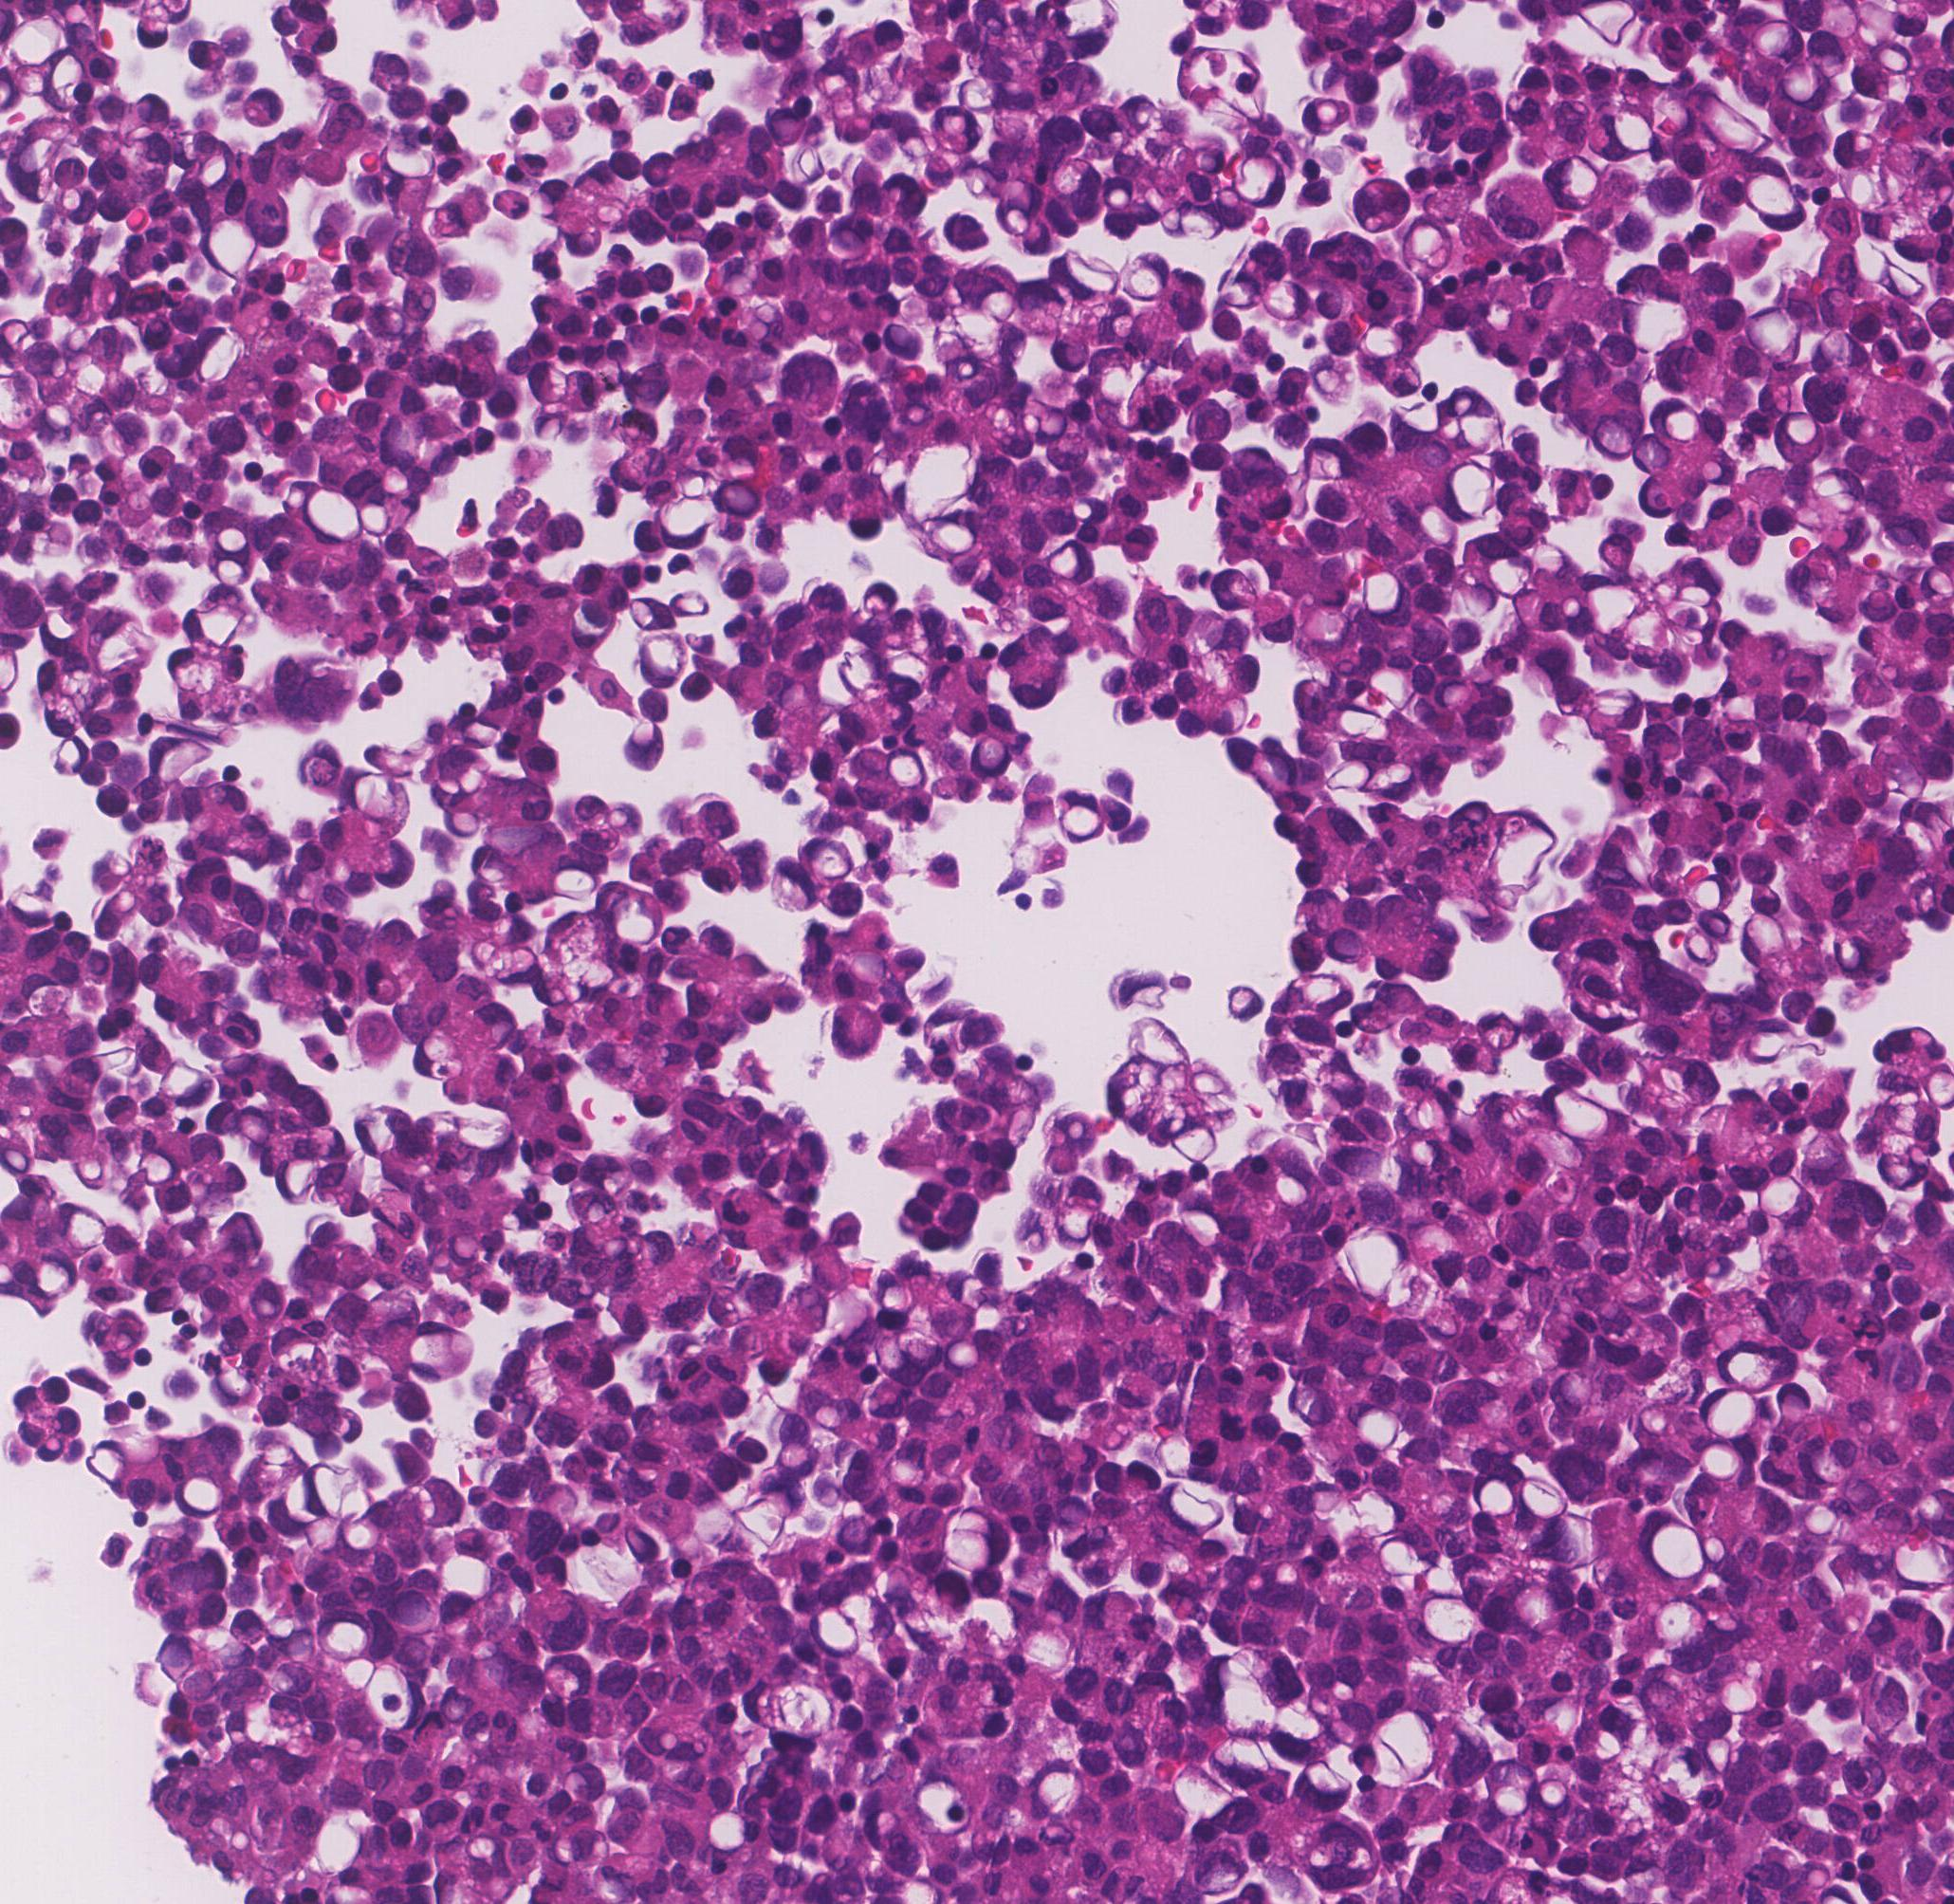ring_cell_cancer: (1380, 1703, 1439, 1785), (1642, 1508, 1703, 1585), (1549, 1086, 1616, 1147), (1743, 173, 1811, 232), (1350, 1227, 1408, 1297), (1717, 1339, 1799, 1387), (413, 1319, 475, 1380), (1230, 147, 1289, 208), (204, 218, 265, 276), (1757, 1173, 1818, 1230), (307, 1813, 363, 1876), (525, 1600, 591, 1653), (1164, 1482, 1225, 1538), (1050, 248, 1120, 297), (1698, 1387, 1760, 1442), (1752, 302, 1804, 366), (656, 497, 715, 553), (1204, 1651, 1261, 1707), (1752, 16, 1811, 70), (808, 1609, 867, 1663), (1296, 1761, 1356, 1815), (918, 1775, 968, 1838), (1441, 462, 1497, 518), (1029, 1764, 1083, 1820), (830, 1007, 885, 1063), (441, 1553, 499, 1606), (1539, 159, 1600, 208), (1350, 1400, 1406, 1452), (195, 326, 246, 384), (1178, 1766, 1235, 1817), (1650, 400, 1711, 447), (347, 770, 400, 824), (1654, 1599, 1708, 1651), (1401, 220, 1453, 274), (176, 1468, 232, 1518), (161, 1058, 216, 1108), (1214, 1736, 1270, 1787), (1424, 1597, 1479, 1647), (1781, 63, 1837, 113), (302, 490, 359, 539), (12, 138, 54, 204), (148, 736, 211, 780), (10, 14, 66, 63), (1352, 1489, 1410, 1536), (926, 513, 984, 560), (1377, 1538, 1441, 1579), (372, 838, 417, 897), (625, 716, 668, 777), (1359, 569, 1408, 623), (1614, 110, 1668, 159), (35, 1250, 82, 1304), (693, 1497, 740, 1551), (1279, 1702, 1326, 1756), (1176, 1204, 1232, 1250), (1059, 789, 1104, 845), (56, 1201, 106, 1250), (543, 1651, 593, 1700), (637, 637, 686, 688), (707, 1803, 754, 1855), (1045, 532, 1092, 585), (827, 1290, 872, 1344), (775, 860, 818, 916), (45, 52, 87, 110), (946, 1532, 1008, 1571), (319, 1613, 368, 1661), (975, 1595, 1024, 1644), (377, 138, 436, 178), (801, 836, 855, 880), (1296, 92, 1350, 136), (1293, 974, 1354, 1012), (117, 120, 173, 162), (126, 3, 174, 51), (274, 1155, 323, 1202), (564, 1759, 611, 1808), (40, 609, 87, 656), (1722, 1674, 1767, 1723), (1474, 1473, 1523, 1518), (85, 1442, 129, 1492), (311, 1455, 345, 1518), (1743, 913, 1785, 965), (1124, 255, 1171, 300), (1324, 759, 1377, 799), (1363, 319, 1408, 365), (47, 733, 94, 777), (9, 885, 56, 928), (1882, 258, 1930, 302), (1267, 276, 1310, 323), (24, 976, 73, 1017), (1525, 1473, 1568, 1518), (1547, 1373, 1591, 1419), (415, 1038, 462, 1080), (1544, 1693, 1586, 1740), (1490, 553, 1537, 595), (1172, 1127, 1221, 1168), (1636, 473, 1677, 522), (714, 482, 766, 518), (616, 904, 659, 948), (354, 1115, 398, 1159), (972, 731, 1015, 775), (1054, 1202, 1094, 1250), (881, 750, 928, 791), (628, 595, 677, 634), (890, 1450, 932, 1494), (577, 597, 621, 639), (1800, 1499, 1844, 1541), (1223, 271, 1267, 312), (890, 647, 930, 693), (764, 108, 810, 148), (565, 370, 605, 415), (363, 743, 422, 773), (237, 1106, 279, 1148), (1778, 410, 1820, 452), (342, 1517, 386, 1557), (558, 860, 602, 901), (1153, 1438, 1197, 1478), (241, 91, 284, 131), (185, 35, 229, 75), (616, 410, 659, 450), (1832, 939, 1879, 976), (195, 150, 236, 192), (1745, 1026, 1785, 1068), (1598, 532, 1638, 574), (1879, 1154, 1923, 1192), (499, 948, 544, 984), (1324, 928, 1370, 965), (7, 63, 54, 98), (134, 1152, 181, 1187), (1596, 412, 1631, 459), (621, 1525, 661, 1565), (213, 1365, 251, 1407), (1492, 1785, 1534, 1824), (488, 185, 530, 223), (1666, 1749, 1703, 1792), (527, 360, 562, 405), (1005, 1105, 1038, 1152), (302, 1515, 340, 1555), (1692, 874, 1732, 913), (898, 1330, 940, 1366), (1340, 703, 1384, 738), (298, 23, 342, 58), (1701, 1443, 1746, 1476), (1310, 1478, 1349, 1517), (1464, 579, 1502, 618), (249, 1286, 290, 1323), (944, 1337, 984, 1373), (59, 185, 94, 227), (466, 1834, 508, 1869), (574, 962, 618, 995), (1188, 1068, 1232, 1101), (975, 286, 1019, 319), (881, 321, 925, 354), (869, 1339, 905, 1377), (462, 716, 501, 752), (951, 1274, 987, 1312), (537, 1485, 577, 1520), (1870, 42, 1910, 77), (256, 1440, 298, 1473), (851, 949, 893, 983), (101, 1098, 145, 1129), (133, 363, 169, 400), (960, 77, 996, 113), (1541, 1777, 1575, 1815), (1778, 1382, 1813, 1421), (878, 1272, 912, 1309), (1228, 990, 1263, 1026), (473, 845, 506, 883), (860, 583, 898, 616), (954, 1510, 1000, 1538), (1434, 677, 1474, 709), (994, 202, 1029, 237), (38, 347, 72, 384), (75, 361, 112, 394), (1427, 1309, 1464, 1342), (1685, 927, 1717, 965), (841, 1518, 874, 1553), (466, 939, 499, 974), (79, 1150, 110, 1187), (447, 808, 483, 839), (1104, 173, 1136, 209), (302, 1215, 340, 1244), (1036, 407, 1066, 445), (220, 1052, 260, 1080), (1710, 1735, 1738, 1775), (1701, 461, 1741, 489), (1057, 1497, 1090, 1531), (1593, 1729, 1626, 1763), (319, 1126, 351, 1161), (530, 414, 569, 442), (605, 806, 644, 834), (796, 148, 823, 187), (342, 1489, 375, 1520), (811, 1400, 843, 1433), (447, 1232, 480, 1264), (1385, 757, 1417, 791), (1795, 1857, 1830, 1887), (361, 497, 387, 536), (782, 1445, 813, 1476), (47, 400, 75, 435), (344, 1656, 373, 1688), (598, 1234, 630, 1264), (262, 1616, 295, 1644), (99, 852, 134, 878), (216, 527, 251, 553), (583, 1194, 611, 1225), (201, 998, 232, 1026), (813, 1476, 839, 1510), (110, 894, 143, 920), (1158, 202, 1181, 237), (461, 771, 490, 798), (216, 558, 246, 585), (551, 1836, 574, 1867), (488, 1023, 516, 1047), (830, 1442, 860, 1464), (284, 483, 307, 513), (66, 326, 89, 353), (438, 773, 461, 799), (754, 304, 780, 321), (750, 319, 769, 342)
